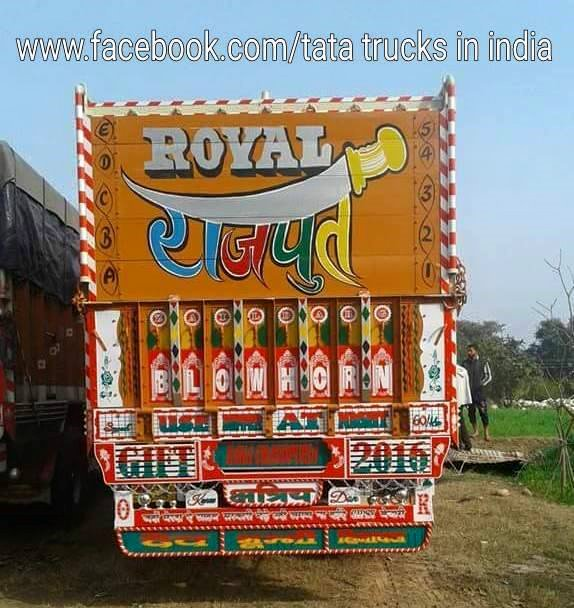truck: (69, 74, 470, 568), (2, 141, 98, 523)
